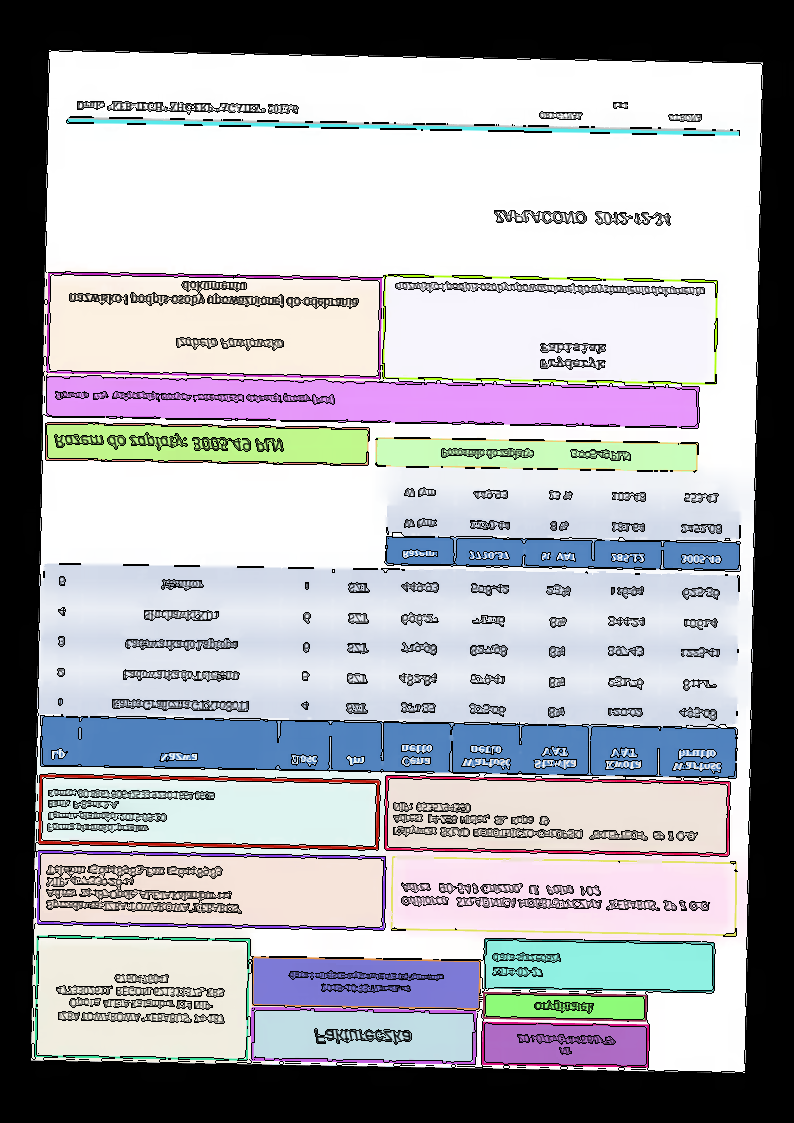Table: (39, 561, 741, 779), (383, 474, 743, 573)
TextBox: (391, 800, 701, 844), (43, 862, 244, 918), (397, 881, 714, 914), (53, 971, 229, 1027), (68, 277, 360, 310), (45, 788, 215, 837), (393, 279, 707, 301), (52, 433, 286, 456), (53, 389, 337, 406), (286, 968, 447, 996), (74, 97, 301, 116), (491, 206, 674, 228), (538, 100, 703, 124), (438, 446, 633, 463), (514, 1029, 617, 1059), (537, 341, 610, 372), (491, 949, 562, 979), (313, 1027, 412, 1047), (174, 336, 286, 352), (531, 999, 596, 1015)
